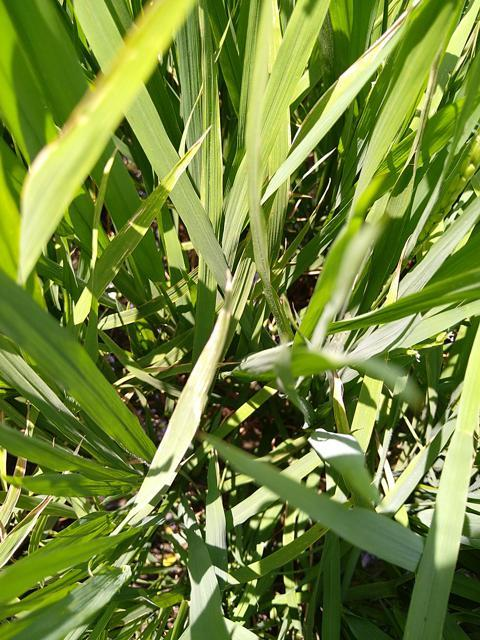Leaf Blight: (19, 0, 203, 283)
Leaf Streak: (116, 127, 211, 238)
